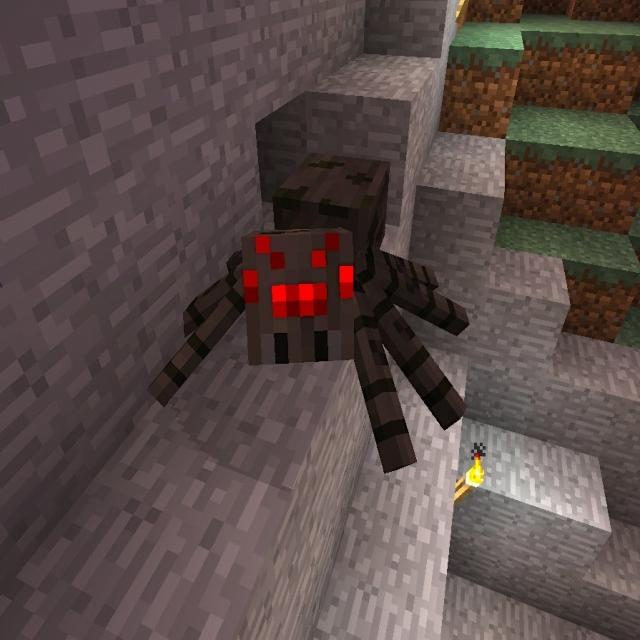Spider: (147, 150, 469, 474)
